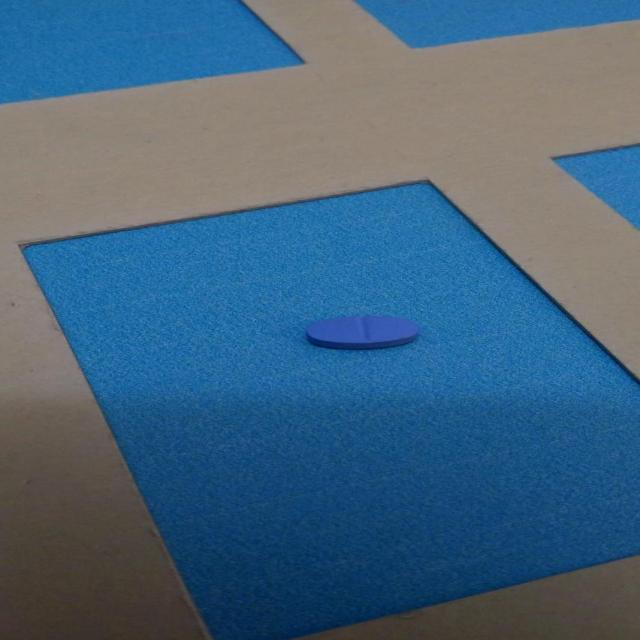pill: (296, 314, 430, 352)
